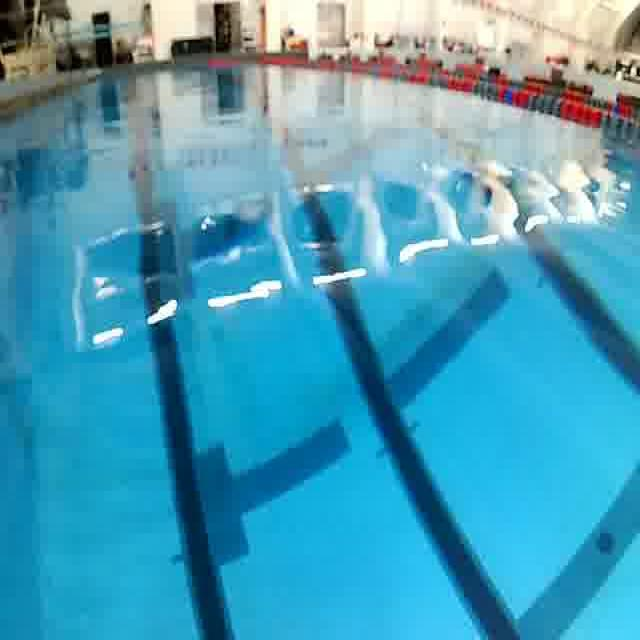Bottle: (417, 149, 507, 222)
